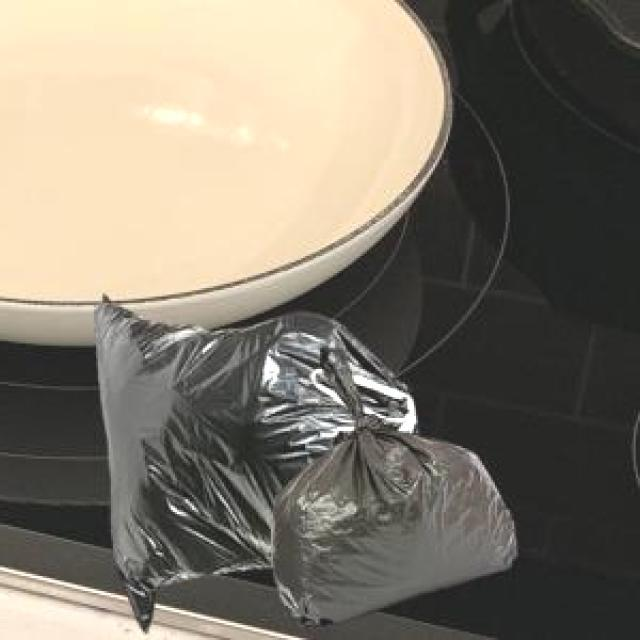Trashbag: (86, 302, 303, 625), (273, 422, 519, 617)
